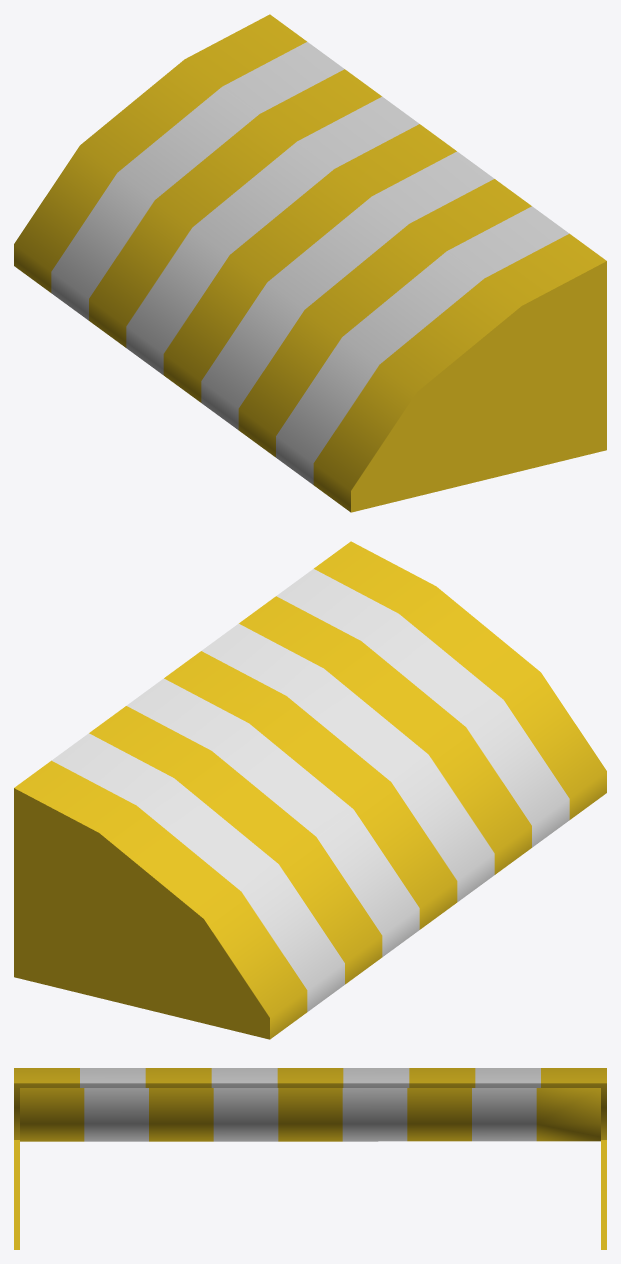
Rendered from Awning_1_M.fbx.
3 views of the same model, one above another, from view 1: azimuth 30°, elevation 25°; view 2: azimuth 150°, elevation 25°; view 3: azimuth 270°, elevation 25° (orthographic). The views are drawn at different scales.
Parts seen in each view (by area): view 1: Awning_1_M; view 2: Awning_1_M; view 3: Awning_1_M.
Boxes of the visible parts, box(x1,y1,x2,y2) form: Awning_1_M: box(14, 14, 606, 512); Awning_1_M: box(14, 541, 606, 1039); Awning_1_M: box(14, 1068, 606, 1249).
Size of the model in its own units: 123 by 86.57 by 280.
